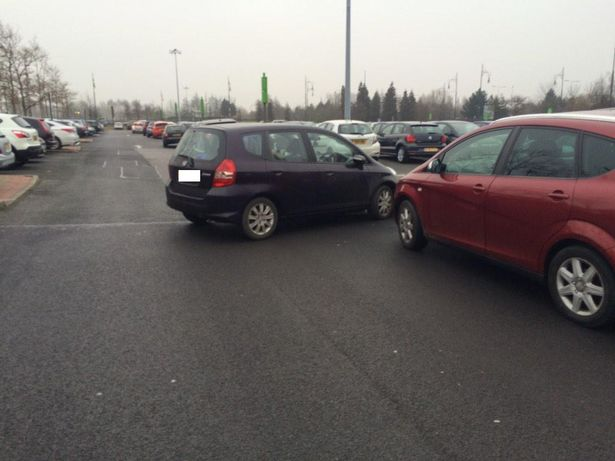car: (395, 115, 615, 324), (165, 125, 401, 238)
